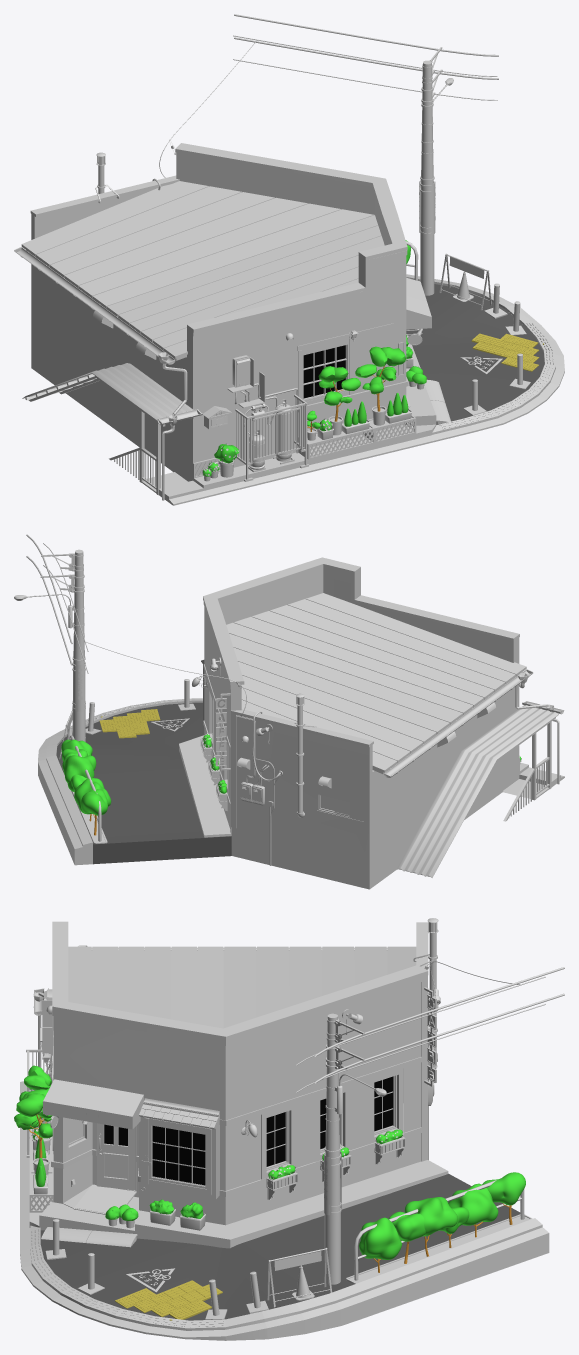
File: Building.glb
3 views of the same model, one above another, from view 1: azimuth 30°, elevation 25°; view 2: azimuth 150°, elevation 25°; view 3: azimuth 270°, elevation 25° (orthographic). The views are drawn at different scales.
Visible parts, largest first — view 1: Building; view 2: Building; view 3: Building.
Part boxes in pixels (box(x1,y1,x2,y2)): Building: box(14, 14, 564, 505); Building: box(14, 534, 564, 889); Building: box(14, 918, 564, 1340).
Size of the model in its own units: 14.04 by 7.23 by 12.56.
